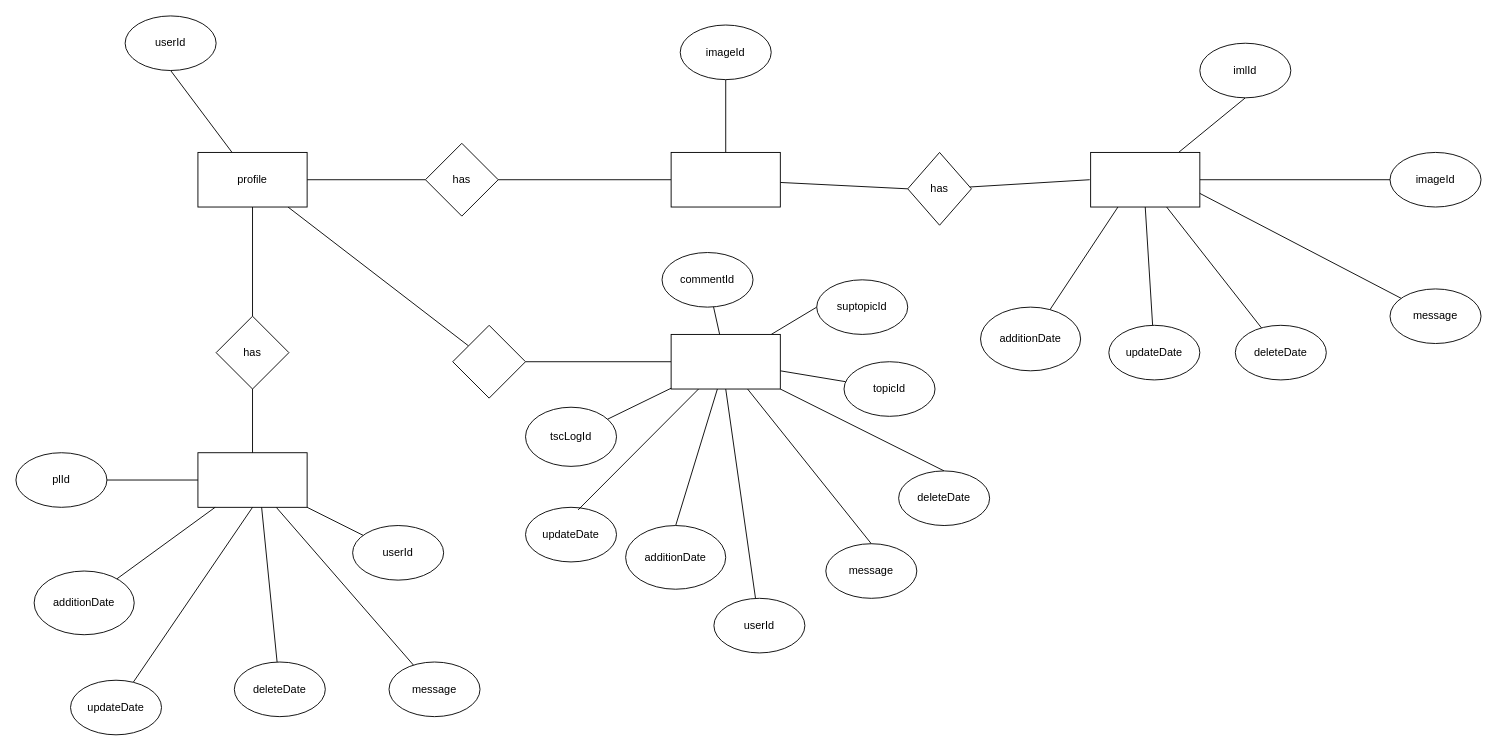
This 1497x751 diagram has some shape labels left out. Each missing label, with the centre of its shape:
"can have" belongs at (489,361).
"image" belongs at (725,179).
"image_logger" belongs at (1145,179).
"profille_logger" belongs at (252,479).
"top_sub_com_logger" belongs at (725,361).
